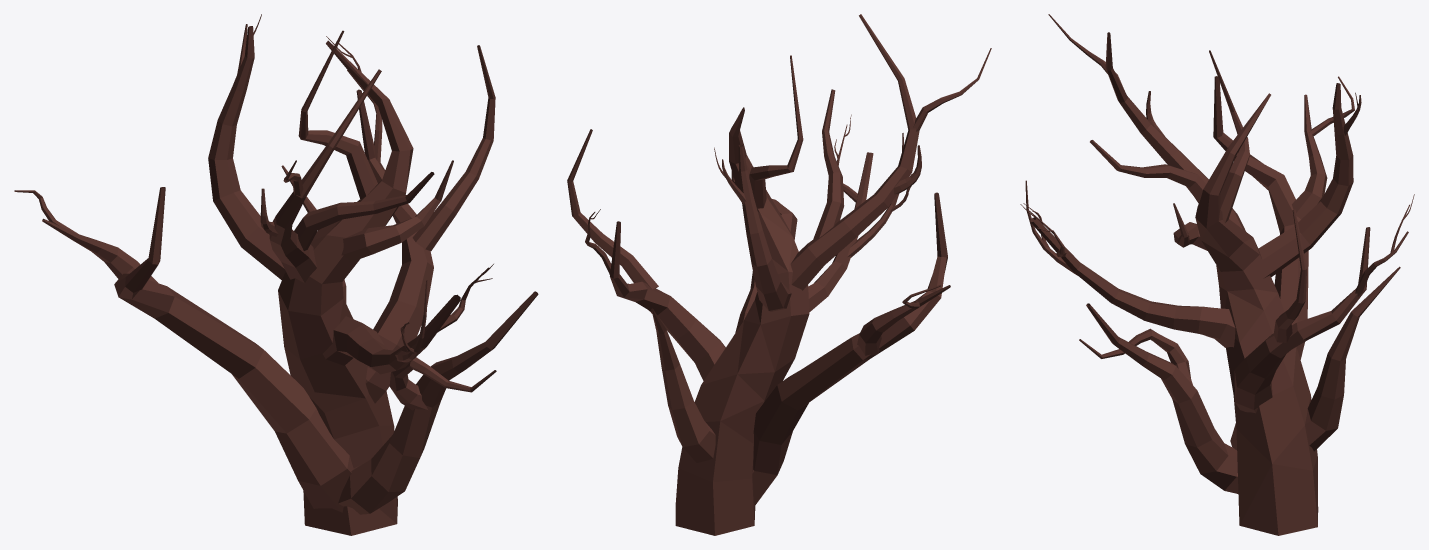
File: large-tree_1.fbx
The picture shows the model from 3 angles, left to right: view 1: azimuth 30°, elevation 25°; view 2: azimuth 150°, elevation 25°; view 3: azimuth 270°, elevation 25°; orthographic projection. The views are drawn at different scales.
Parts seen in each view (by area): view 1: largetree1_LOD0; view 2: largetree1_LOD0; view 3: largetree1_LOD0.
Part boxes in pixels (bbox=[...]): largetree1_LOD0: bbox=[14, 14, 538, 535]; largetree1_LOD0: bbox=[567, 14, 991, 535]; largetree1_LOD0: bbox=[1020, 14, 1414, 535].
Size of what is drawn, in the model's own units: 18.99 by 21.15 by 16.58.
